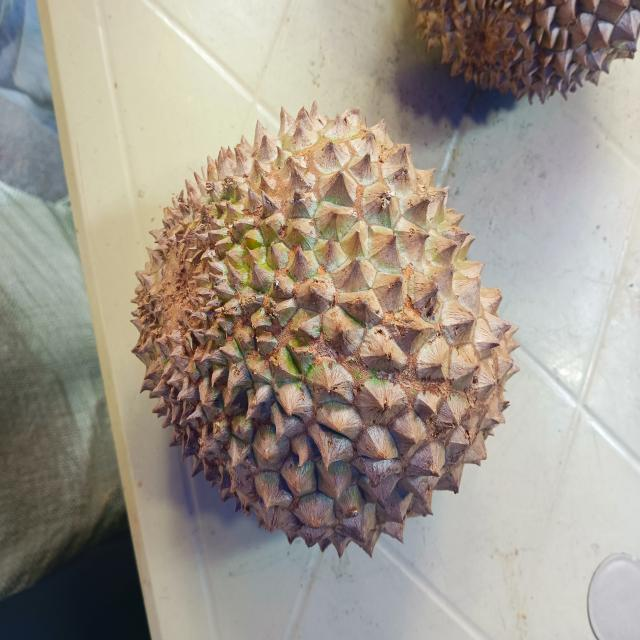mature: (123, 92, 525, 567)
